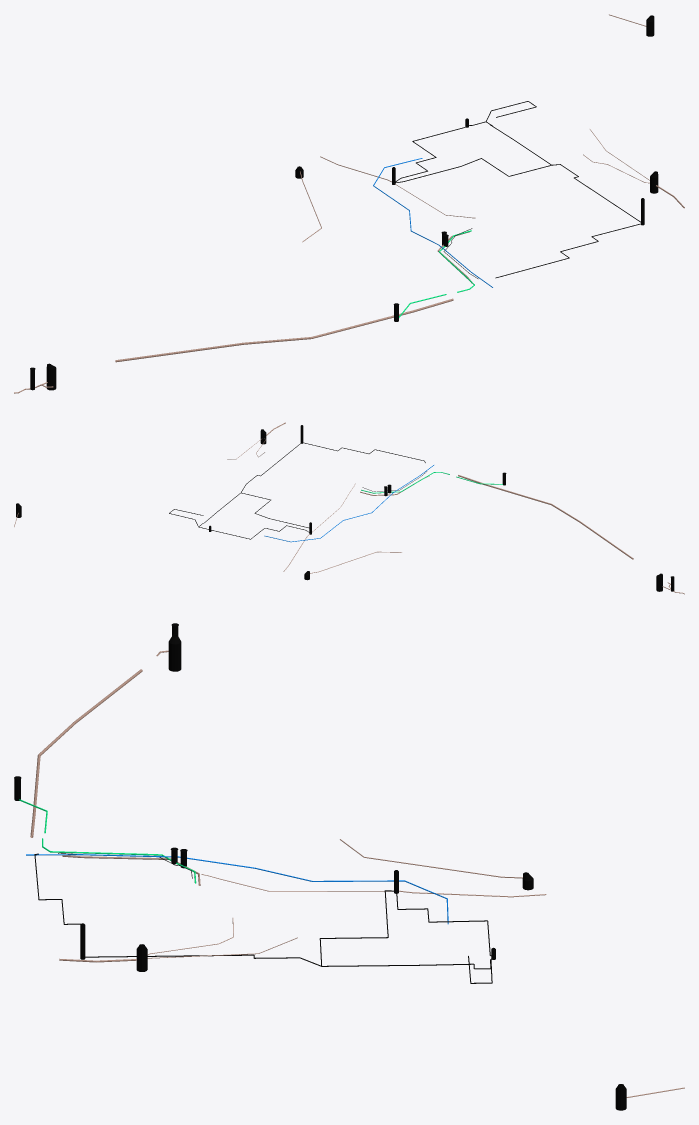
File: RIVA_3D_v4_rev2.gltf
3 renders of one model, top to bottom at view 1: azimuth 30°, elevation 25°; view 2: azimuth 150°, elevation 25°; view 3: azimuth 270°, elevation 25°, orthographic. The views are drawn at different scales.
Size of the model in its own units: 133 by 13.13 by 72.32.
